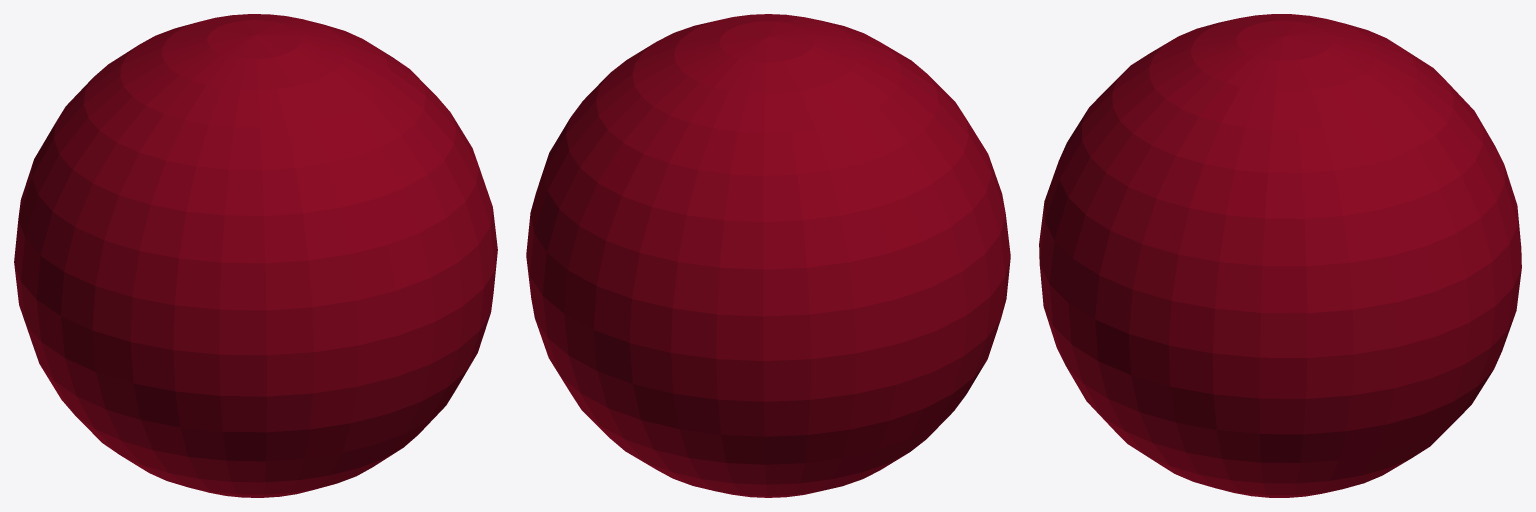
The model's file is Scope.glb.
The picture shows the model from 3 angles, left to right: view 1: azimuth 30°, elevation 25°; view 2: azimuth 150°, elevation 25°; view 3: azimuth 270°, elevation 25°; orthographic projection.
Parts seen in each view (by area): view 1: node_id4; view 2: node_id4; view 3: node_id4.
Boxes of the visible parts, bbox=[...] form: node_id4: bbox=[14, 14, 497, 497]; node_id4: bbox=[526, 14, 1010, 497]; node_id4: bbox=[1039, 14, 1521, 497].
Bounding box in the file's own units: 0.00928 × 0.00932 × 0.00928.
Materials: 1 (1 with a texture image).
